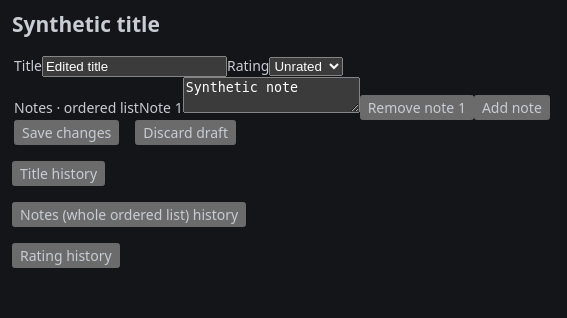
Scenario: a late draft success cannot change status after metadata commit
Step 1. Click the button "Save changes" → coordinates (67, 132), box [14, 120, 119, 145]
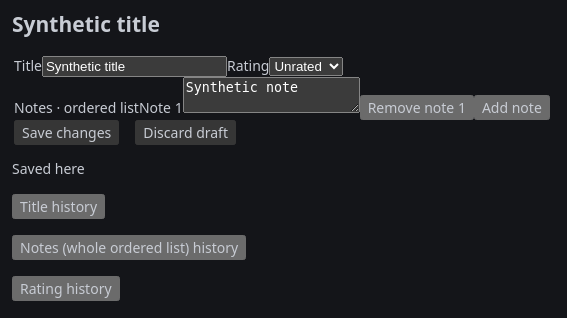
Check: the message reads "Saved here", box [12, 159, 85, 178]
Check: the button "Save changes" is disabled, box [14, 120, 119, 145]
